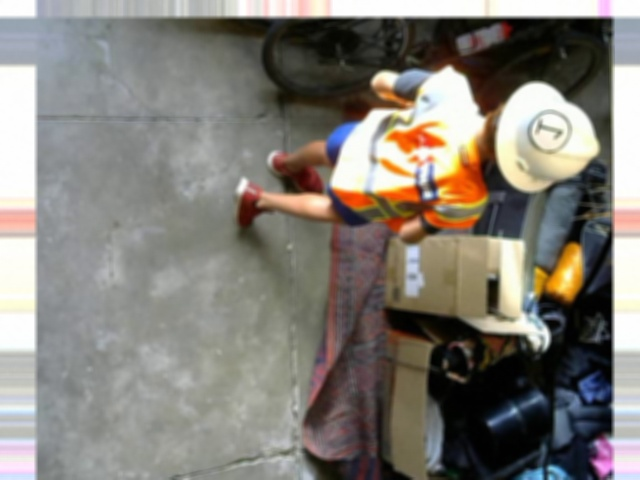one: (530, 111, 569, 151)
